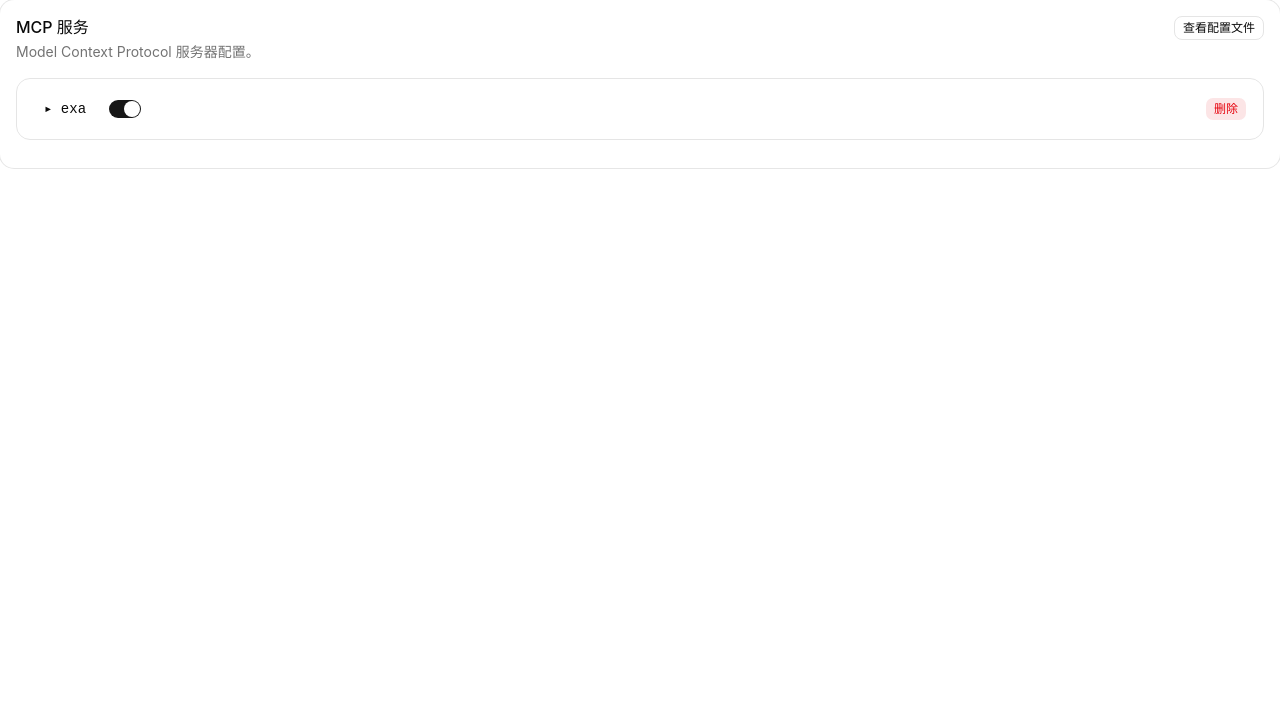
Test: McpPage › renders remote headers as a key-value editor
This screenshot has width=1280, height=720.
Click the button with aria-label "展开 exa".
click(65, 109)  # box [33,95,97,123]
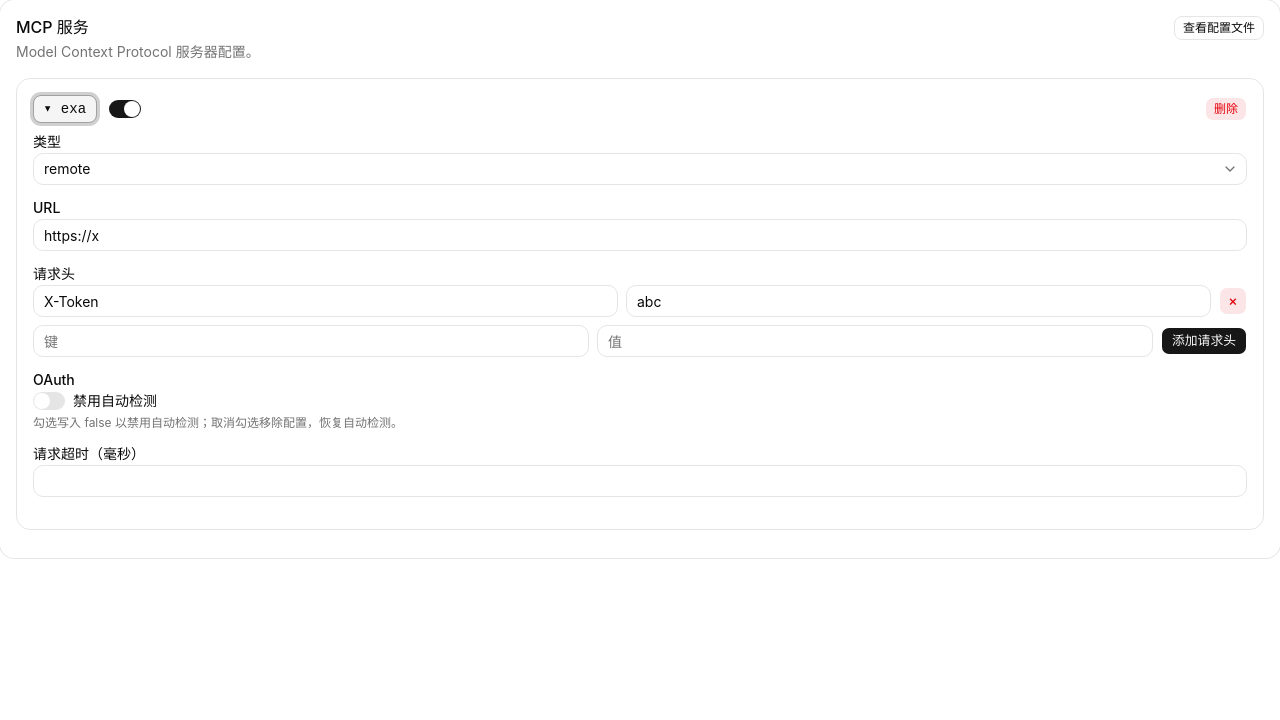
Check: the field named "请求头 值 X-Token" holds "abc", box [626,285,1211,317]
